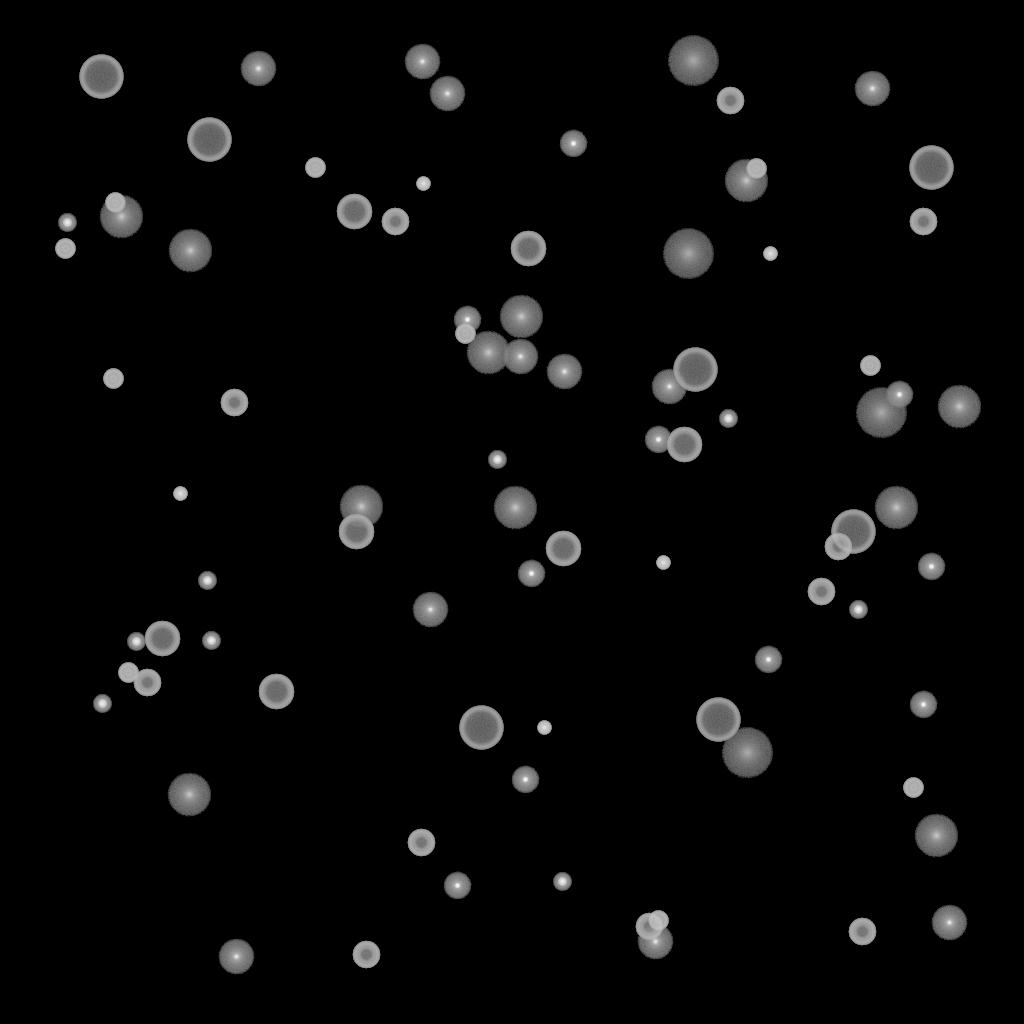depth:-10: (644, 426, 672, 454), (453, 306, 481, 334), (559, 130, 587, 158), (517, 560, 545, 588), (511, 766, 539, 794), (754, 646, 782, 674), (909, 691, 937, 719), (443, 872, 471, 900), (917, 553, 945, 581), (885, 381, 913, 409)
depth:-20: (719, 410, 737, 428), (93, 695, 111, 713), (58, 214, 76, 232), (849, 601, 867, 619), (488, 451, 506, 469), (553, 873, 571, 891), (198, 572, 216, 590), (127, 633, 145, 651), (202, 632, 220, 650)
depth:-30: (763, 247, 777, 261), (537, 721, 551, 735), (416, 177, 430, 191), (656, 556, 670, 570), (173, 487, 187, 501)
depth:-40: (103, 369, 123, 389), (455, 324, 475, 344), (305, 158, 325, 178), (105, 193, 125, 213), (648, 911, 668, 931), (118, 663, 138, 683), (55, 239, 75, 259), (903, 778, 923, 798), (860, 356, 880, 376), (746, 159, 766, 179)
depth:-50: (635, 913, 663, 941), (381, 208, 409, 236), (352, 941, 380, 969), (824, 533, 852, 561), (407, 829, 435, 857), (848, 918, 876, 946), (220, 389, 248, 417), (133, 669, 161, 697), (807, 578, 835, 606), (909, 208, 937, 236), (716, 87, 744, 115)
depth:-60: (510, 231, 546, 267), (338, 514, 374, 550), (666, 427, 702, 463), (545, 531, 581, 567), (144, 621, 180, 657), (336, 194, 372, 230), (258, 674, 294, 710)
depth:-70: (831, 510, 875, 554), (79, 55, 123, 99), (673, 348, 717, 392), (459, 706, 503, 750), (696, 698, 740, 742), (187, 118, 231, 162), (909, 146, 953, 190)
depth:0: (651, 369, 687, 405), (637, 924, 673, 960), (240, 51, 276, 87), (429, 76, 465, 112), (931, 905, 967, 941), (502, 339, 538, 375), (412, 592, 448, 628), (546, 354, 582, 390), (404, 44, 440, 80), (218, 939, 254, 975), (854, 71, 890, 107)
depth:10: (914, 814, 958, 858), (937, 385, 981, 429), (724, 159, 768, 203), (466, 331, 510, 375), (339, 485, 383, 529), (499, 295, 543, 339), (168, 229, 212, 273), (874, 486, 918, 530), (167, 773, 211, 817), (99, 195, 143, 239), (493, 486, 537, 530)
depth:20: (721, 728, 773, 778), (667, 36, 719, 86), (662, 229, 714, 279), (855, 388, 907, 438)
